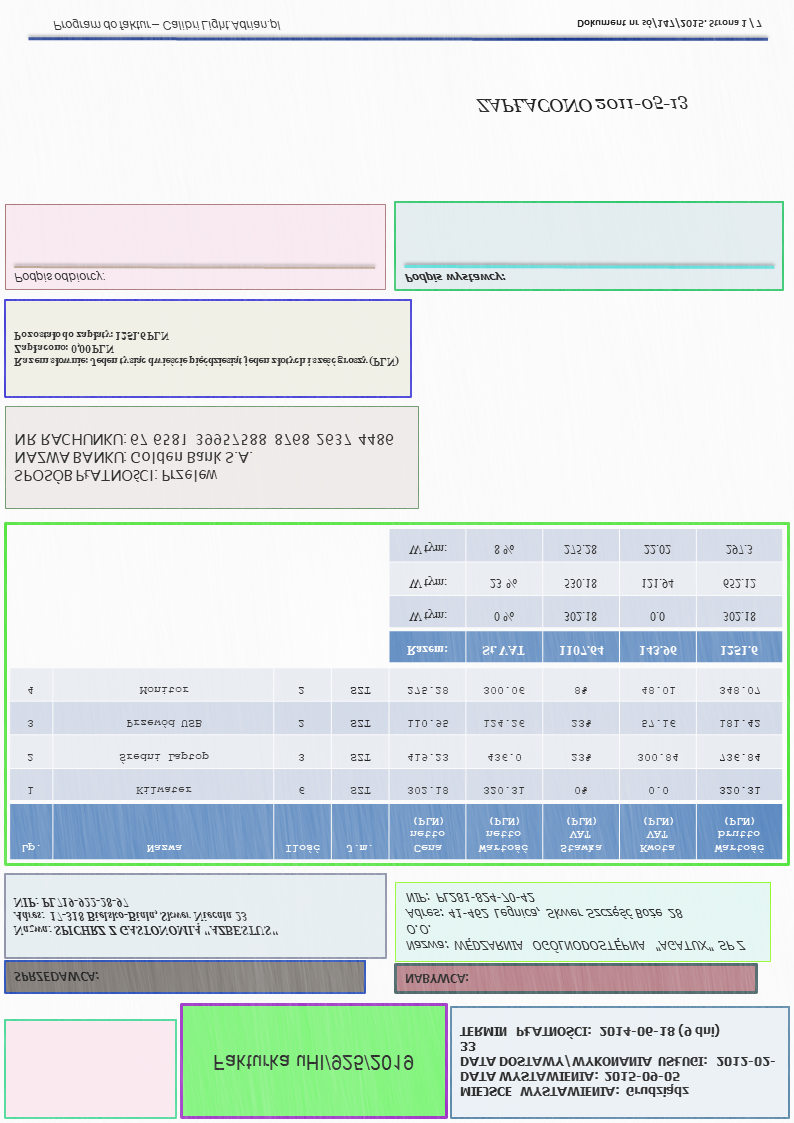Table: (8, 666, 783, 862), (388, 526, 784, 664)
TextBox: (457, 1022, 779, 1101), (402, 888, 749, 955), (11, 428, 396, 486), (11, 329, 401, 371), (11, 894, 281, 940), (474, 91, 689, 118), (210, 1050, 417, 1074), (51, 15, 283, 36), (575, 15, 763, 32), (402, 267, 507, 288), (11, 268, 106, 287), (10, 968, 102, 987), (402, 969, 470, 988)
